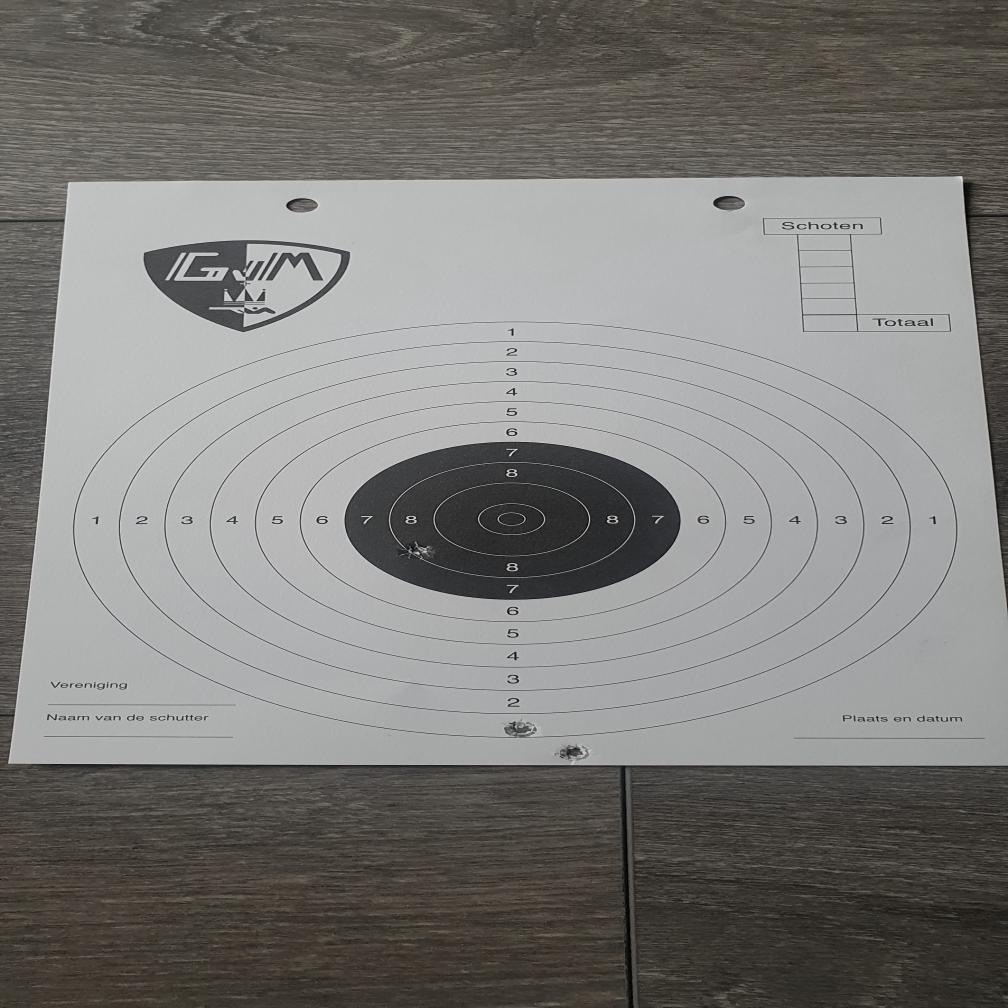0: (552, 744, 598, 764)
1: (501, 719, 541, 739)
8: (395, 540, 436, 562)
Target: (69, 320, 964, 740)
black_contour: (344, 441, 681, 600)
